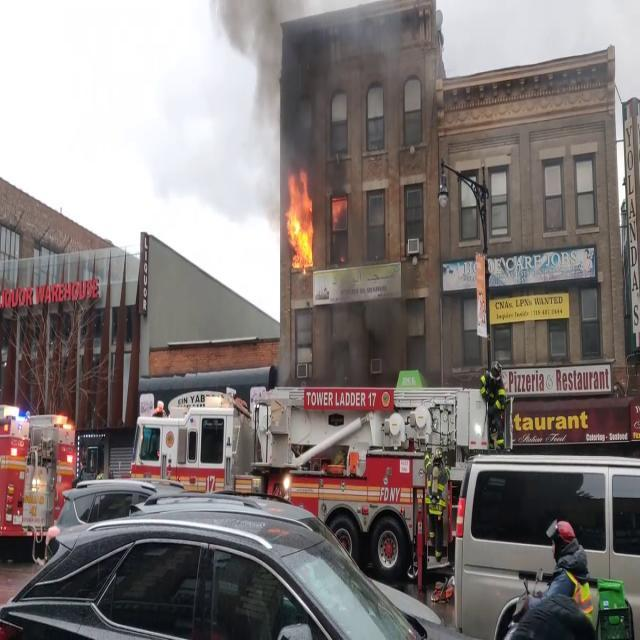Fire: (284, 168, 314, 276)
